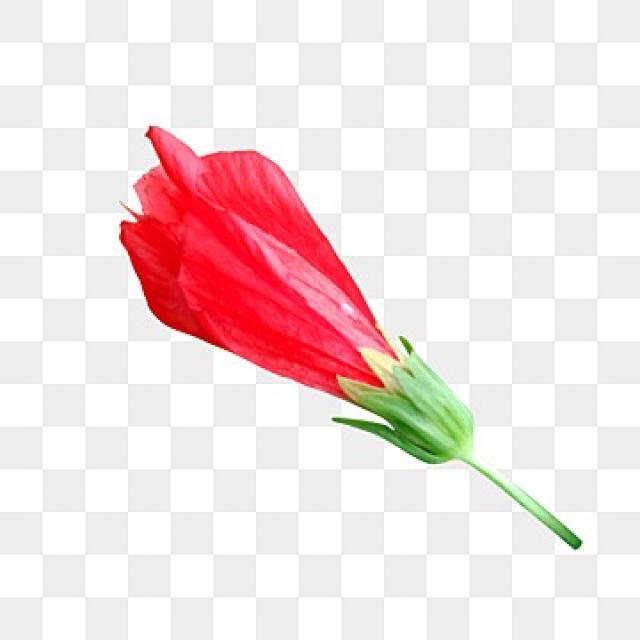Flower: (103, 110, 482, 480)
